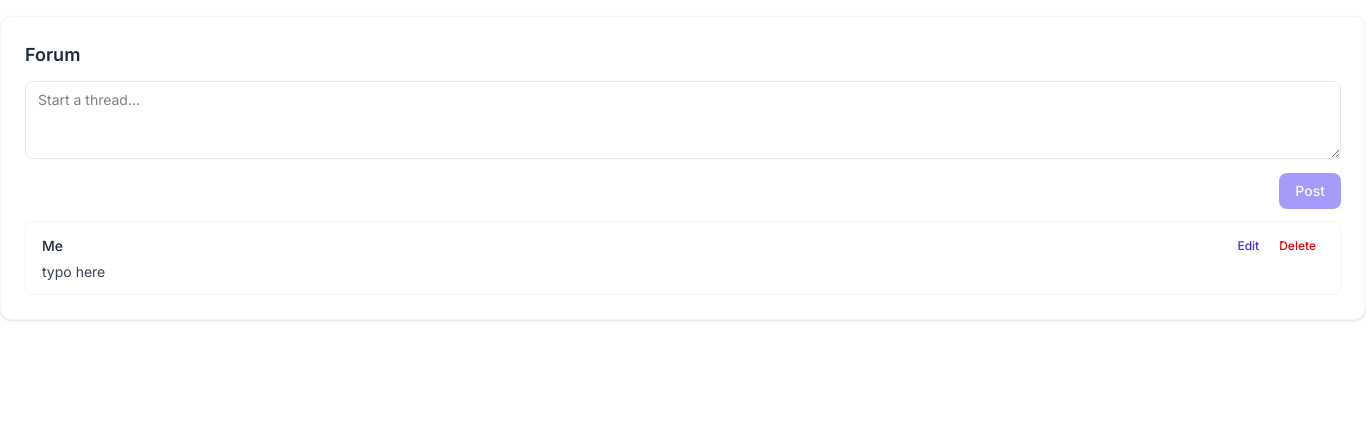
GroupForumSection — own-edit window (FEAT-H028 STORY-4) › edits an OLD post inline and writes through the confirmed row, marking "(edited)" (TASK-EDT-01: no clock)
Expected: the text "typo here" is shown, 42,263 -> 105,280
Click the button with test id "forum-edit-p1" at {"x": 1248, "y": 246}, box 1229,234 -> 1267,258
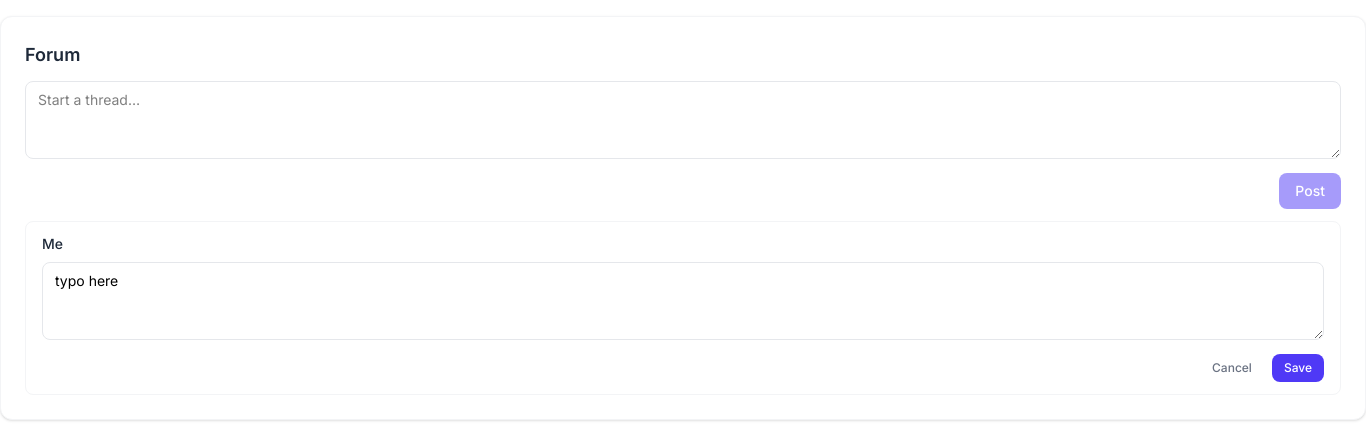
Replace the text in the text box with test id "forum-edit-input-p1" with "fixed now" at {"x": 683, "y": 301}, box 42,262 -> 1324,340
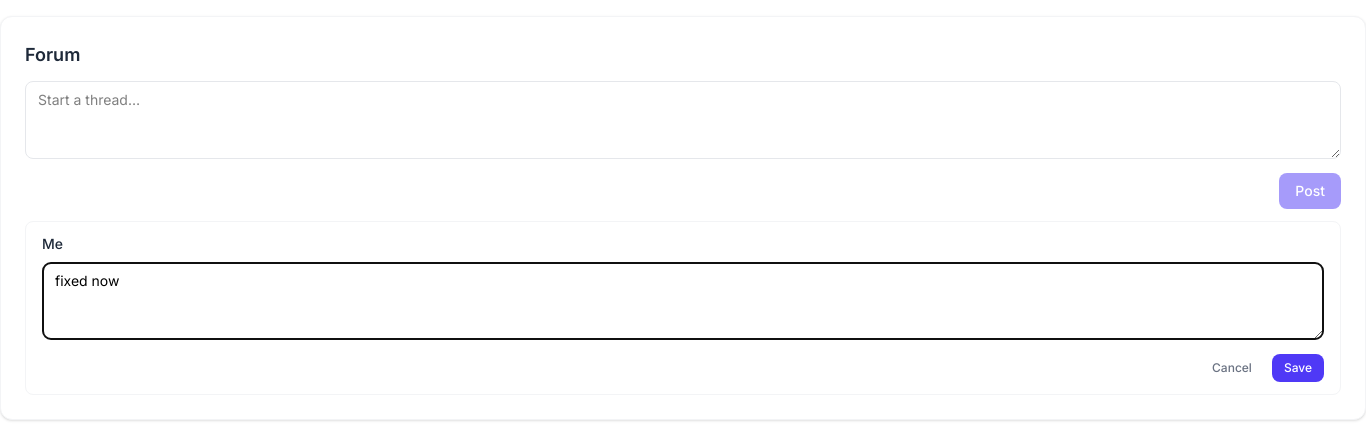
Click the button with test id "forum-edit-save-p1" at {"x": 1298, "y": 368}, box 1272,354 -> 1324,382
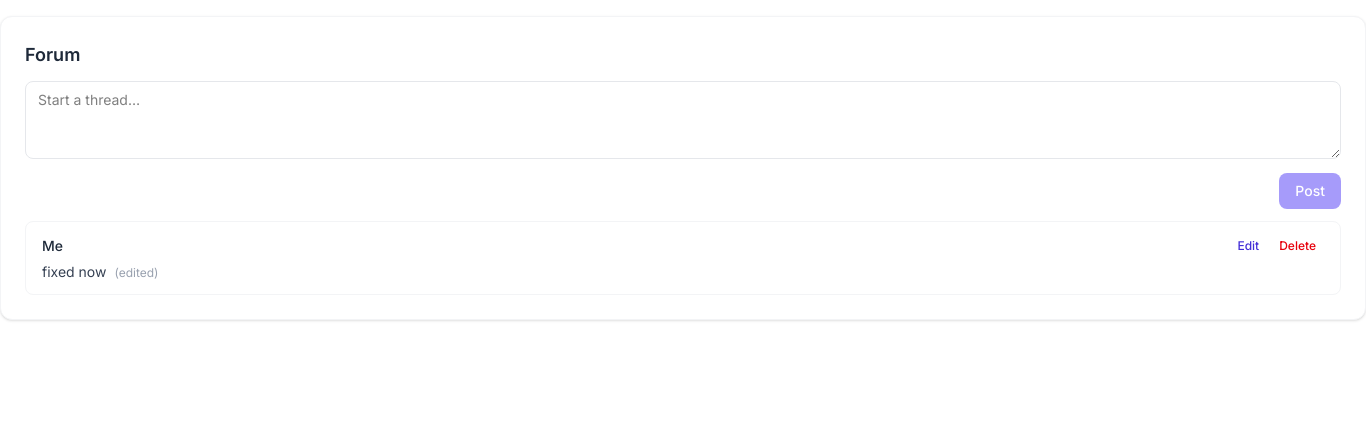
Result: the text "fixed now" is shown at 42,263 -> 106,280
Result: the text "(edited)" is shown at 114,265 -> 158,280
